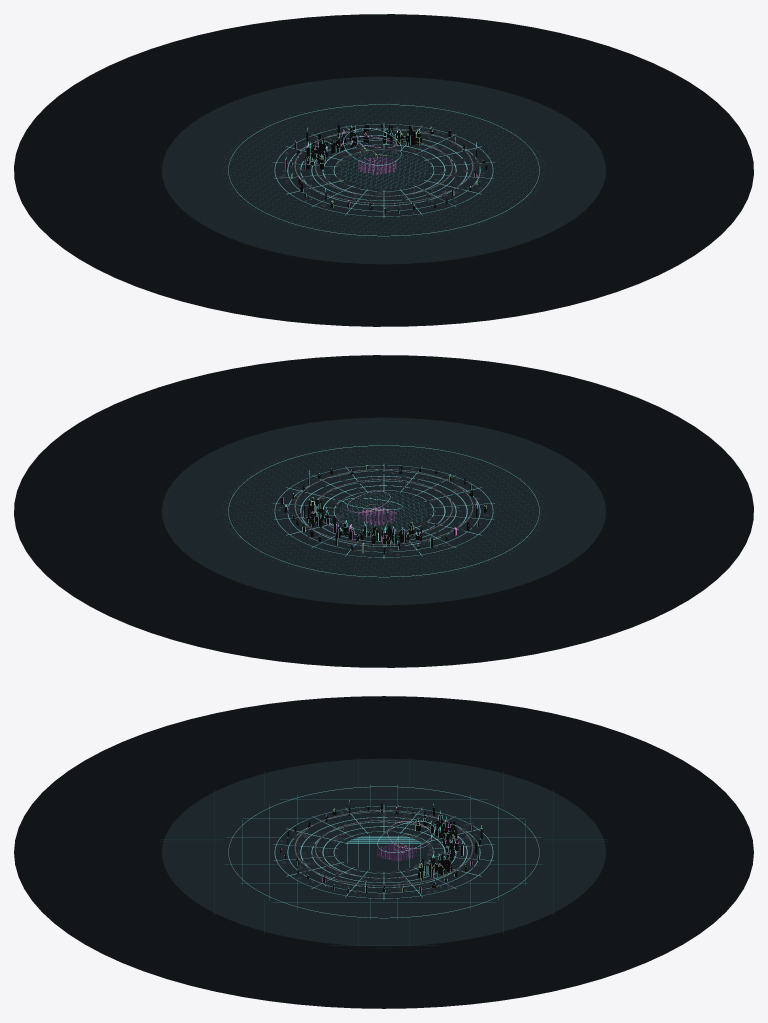
File: city.glb
3 views of the same model, one above another, from view 1: azimuth 30°, elevation 25°; view 2: azimuth 150°, elevation 25°; view 3: azimuth 270°, elevation 25° (orthographic).
Visible parts, largest first — view 1: GroundApron, Ground, CityStreets, CityLots, MetroBed, CityPodiums, HorizonGlow, HexPads; view 2: GroundApron, Ground, CityStreets, CityLots, MetroBed, CityPodiums, HorizonGlow, HexPads; view 3: GroundApron, Ground, CityStreets, SquareGridMid, CityLots, MetroBed, SquareGridFar, CityPodiums, HorizonGlow, SquareGrid, HexPads.
Boxes of the visible parts, x1,y1,x2,y2 form: GroundApron: (14, 14, 753, 326); Ground: (162, 76, 605, 264); CityStreets: (273, 123, 494, 217); CityLots: (278, 126, 487, 214); MetroBed: (294, 128, 473, 203); CityPodiums: (284, 124, 487, 209); HorizonGlow: (228, 104, 539, 236); HexPads: (358, 156, 396, 174); GroundApron: (14, 355, 753, 667); Ground: (162, 417, 605, 605); CityStreets: (273, 464, 494, 558); CityLots: (276, 466, 489, 556); MetroBed: (294, 469, 473, 544); CityPodiums: (277, 468, 473, 554); HorizonGlow: (228, 445, 539, 577); HexPads: (358, 507, 396, 524); GroundApron: (14, 696, 753, 1008); Ground: (162, 758, 605, 946); CityStreets: (273, 805, 494, 899); SquareGridMid: (225, 784, 542, 920); CityLots: (280, 807, 485, 896); MetroBed: (294, 810, 473, 885); SquareGridFar: (159, 757, 608, 948); CityPodiums: (294, 807, 484, 896); HorizonGlow: (228, 786, 539, 918); SquareGrid: (345, 835, 422, 869); HexPads: (377, 843, 416, 861).
Bounding box in the file's own units: 800 × 28.14 × 800.
Materials: 24 (5 with a texture image).
